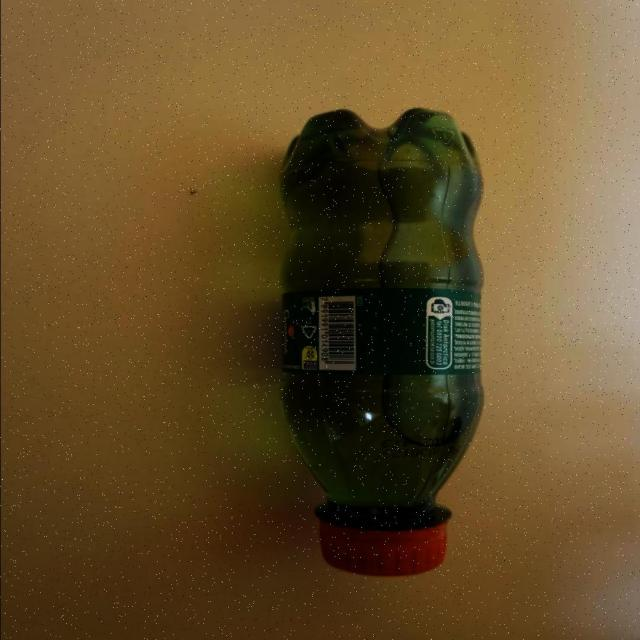Guarana: (278, 109, 483, 575)
